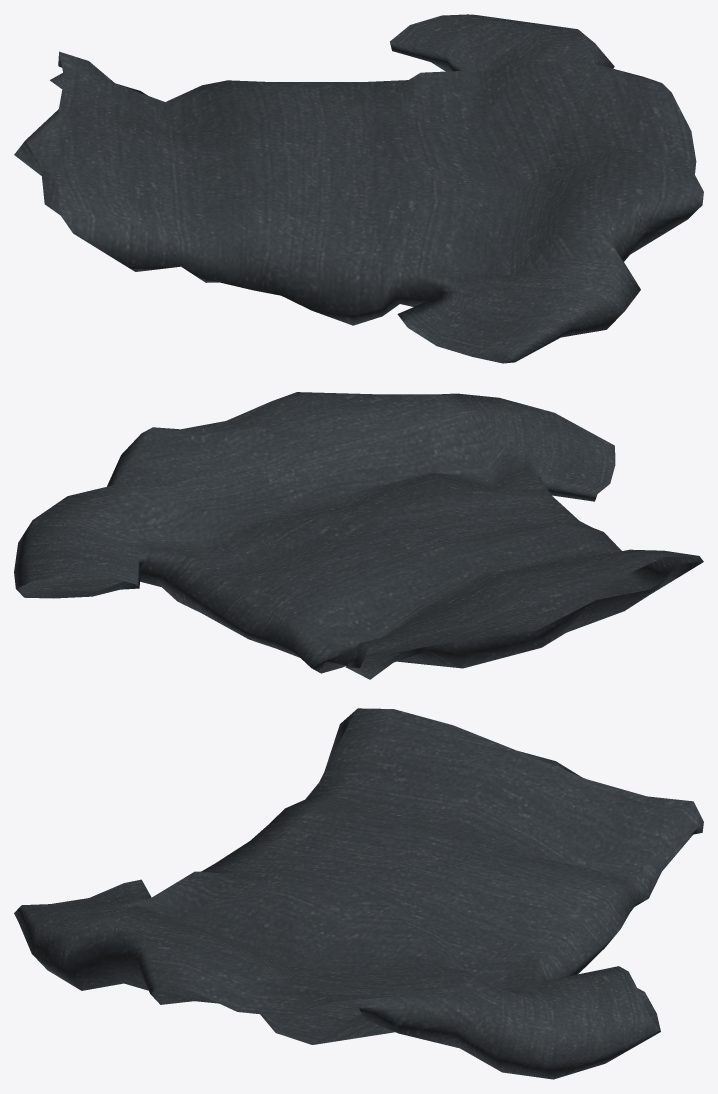
File: ShirtBlack.fbx
The picture shows the model from 3 angles, top to bottom: view 1: azimuth 30°, elevation 25°; view 2: azimuth 150°, elevation 25°; view 3: azimuth 270°, elevation 25°; orthographic projection. The views are drawn at different scales.
Visible parts, largest first — view 1: Shirt01OBJ2; view 2: Shirt01OBJ2; view 3: Shirt01OBJ2.
Boxes of the visible parts, x1,y1,x2,y2 form: Shirt01OBJ2: [14, 14, 703, 363]; Shirt01OBJ2: [14, 392, 703, 679]; Shirt01OBJ2: [14, 708, 703, 1079].
Size of the model in its own units: 63.53 by 11.8 by 63.5.
1 material, 1 textured.
